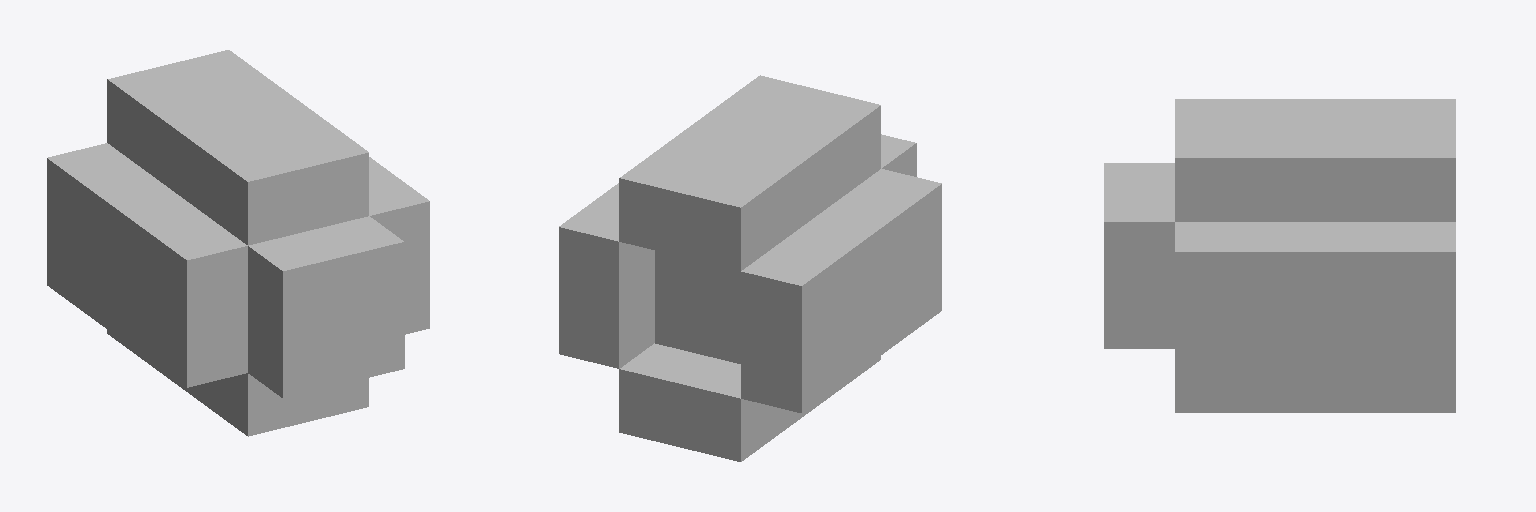
The model's file is ggj_bullet.obj.
3 renders of one model, left to right at view 1: azimuth 30°, elevation 25°; view 2: azimuth 150°, elevation 25°; view 3: azimuth 270°, elevation 25°, orthographic.
Bounding box in the file's own units: 4 × 4 × 5.